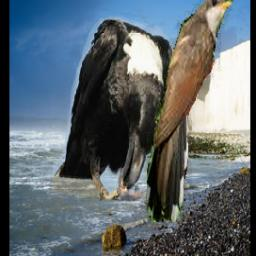Crow: (53, 13, 175, 205)
Cuckoo: (147, 0, 233, 223)
